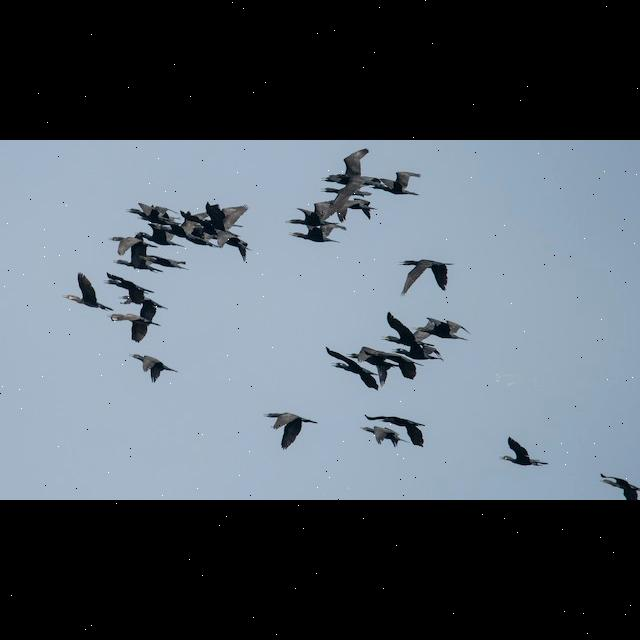cormorant: (398, 256, 458, 294), (264, 410, 318, 452), (61, 273, 113, 313), (500, 434, 552, 470), (126, 351, 182, 384)
